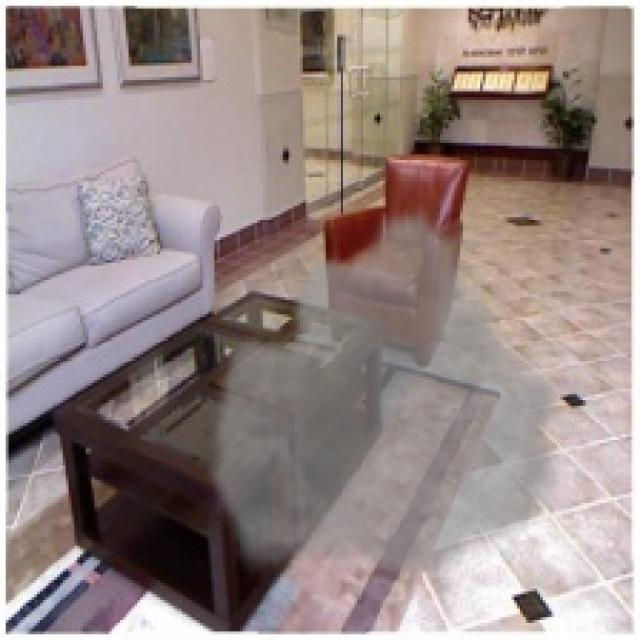smoke: (203, 200, 571, 583)
